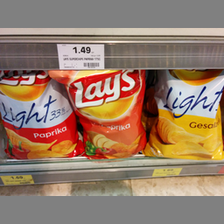chips: (53, 71, 147, 160), (1, 72, 82, 159), (145, 70, 224, 156)
